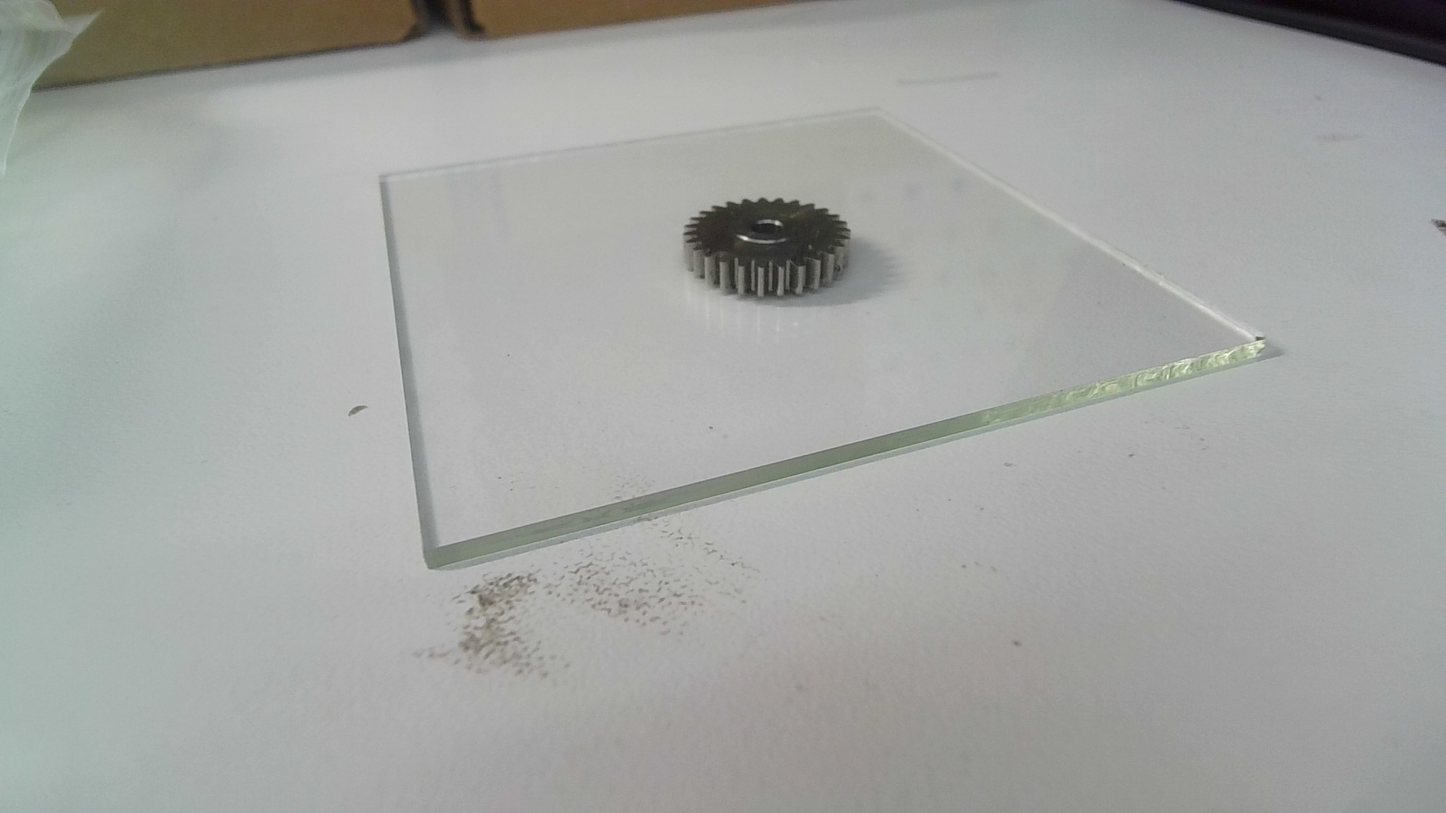gear: (676, 195, 858, 303)
